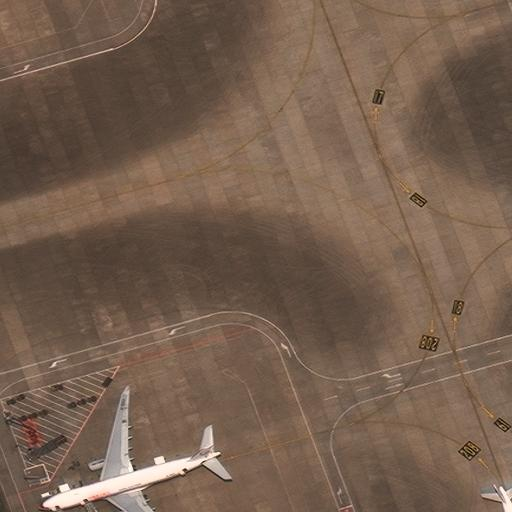Large Civil Transport: (37, 392, 220, 511)
